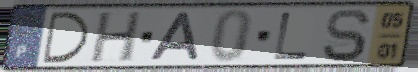0: (205, 7, 257, 66)
A: (146, 11, 202, 63)
D: (41, 10, 93, 65)
H: (87, 9, 144, 65)
L: (271, 10, 312, 62)
S: (319, 7, 373, 64)
